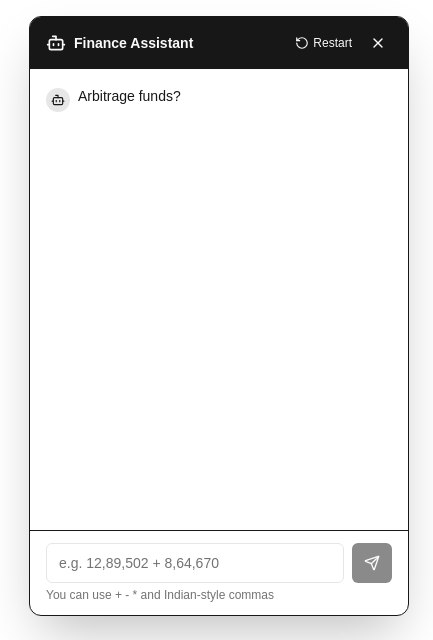
Test case: FinanceAssistantChat Input Validation › should show error when arbitrage exceeds total MFs
Expected: the text "Arbitrage funds?" is shown, [78,88,181,104]
Type "60,00,000" into the field with placeholder "e.g. 12,89,502 + 8,64,670" at x=195, y=563, box [46,543,344,583]
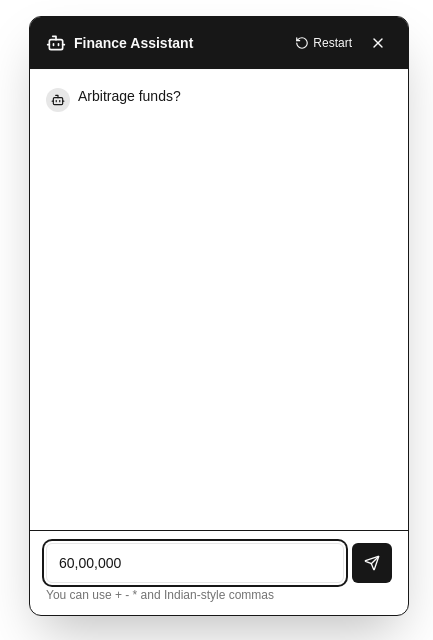
Press Enter
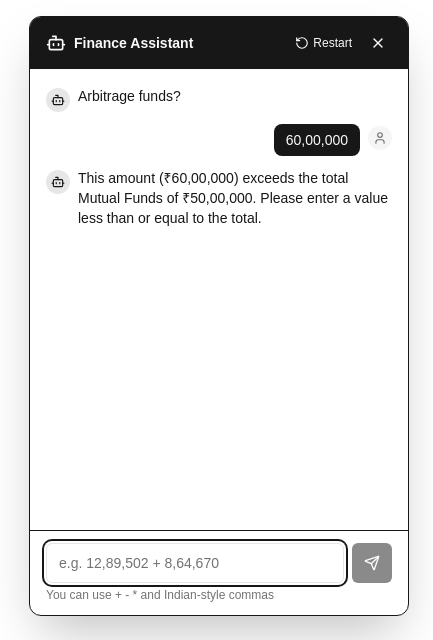
Result: the text "exceeds the total Mutual Funds" is shown at [78,170,388,226]
